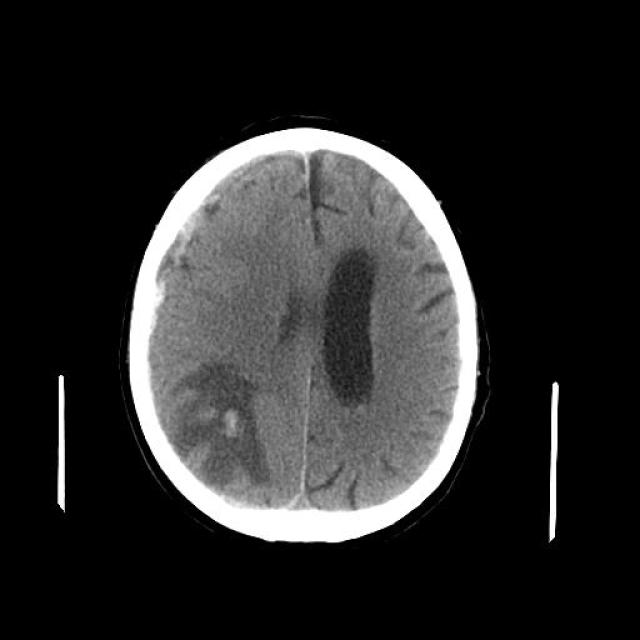Subdural: (125, 148, 279, 290)
